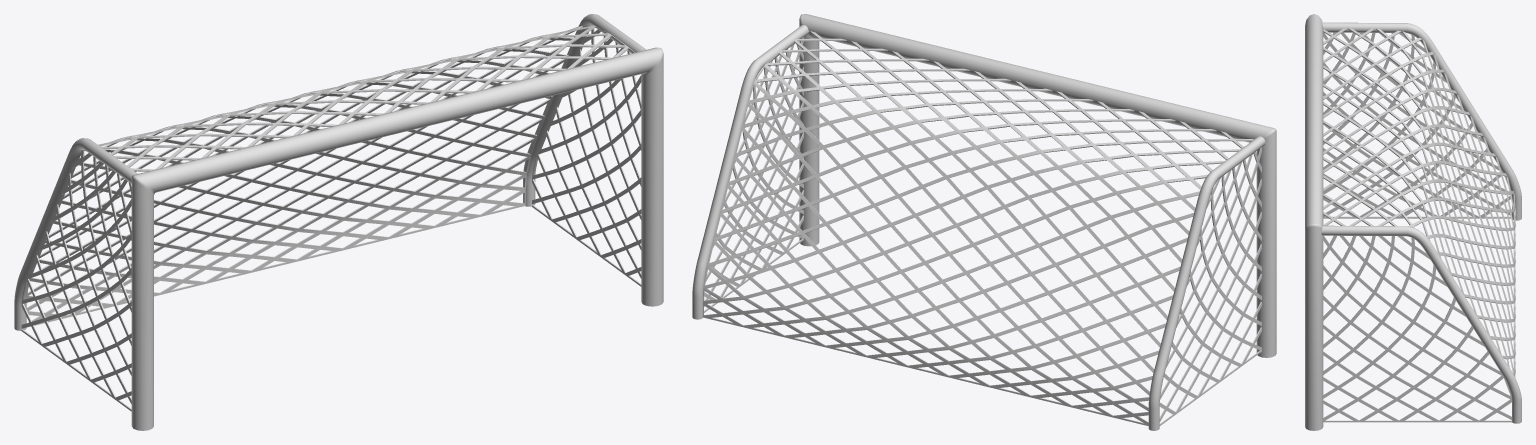
The model's file is GoalComplex.FBX.
The picture shows the model from 3 angles, left to right: view 1: azimuth 30°, elevation 25°; view 2: azimuth 150°, elevation 25°; view 3: azimuth 270°, elevation 25°; orthographic projection. The views are drawn at different scales.
Visible parts, largest first — view 1: Plane005, Cylinder076, Plane006, Line003, Line004; view 2: Plane005, Cylinder076, Plane006, Line003, Line004; view 3: Plane005, Plane006, Cylinder076, Line004, Line003.
Boxes of the visible parts, x1=… form: Plane005: x1=26, y1=25, x2=634, y2=327; Cylinder076: x1=131, y1=47, x2=663, y2=430; Plane006: x1=21, y1=29, x2=641, y2=411; Line003: x1=14, y1=138, x2=137, y2=330; Line004: x1=523, y1=14, x2=646, y2=206; Plane005: x1=703, y1=31, x2=1253, y2=425; Cylinder076: x1=799, y1=14, x2=1276, y2=357; Plane006: x1=704, y1=37, x2=1261, y2=425; Line003: x1=1148, y1=136, x2=1265, y2=430; Line004: x1=692, y1=25, x2=808, y2=319; Plane005: x1=1323, y1=28, x2=1515, y2=377; Plane006: x1=1323, y1=32, x2=1512, y2=422; Cylinder076: x1=1305, y1=14, x2=1323, y2=430; Line004: x1=1321, y1=225, x2=1521, y2=423; Line003: x1=1322, y1=22, x2=1521, y2=220.
Size of the model in its own units: 599 by 273 by 260.
Materials: 1 (1 with a texture image).
